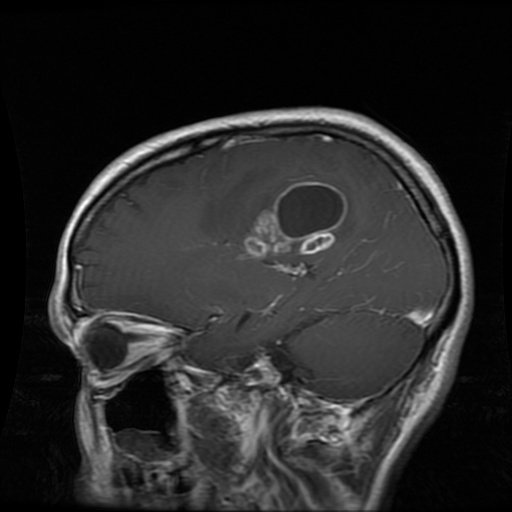glioma: (243, 177, 349, 278)
